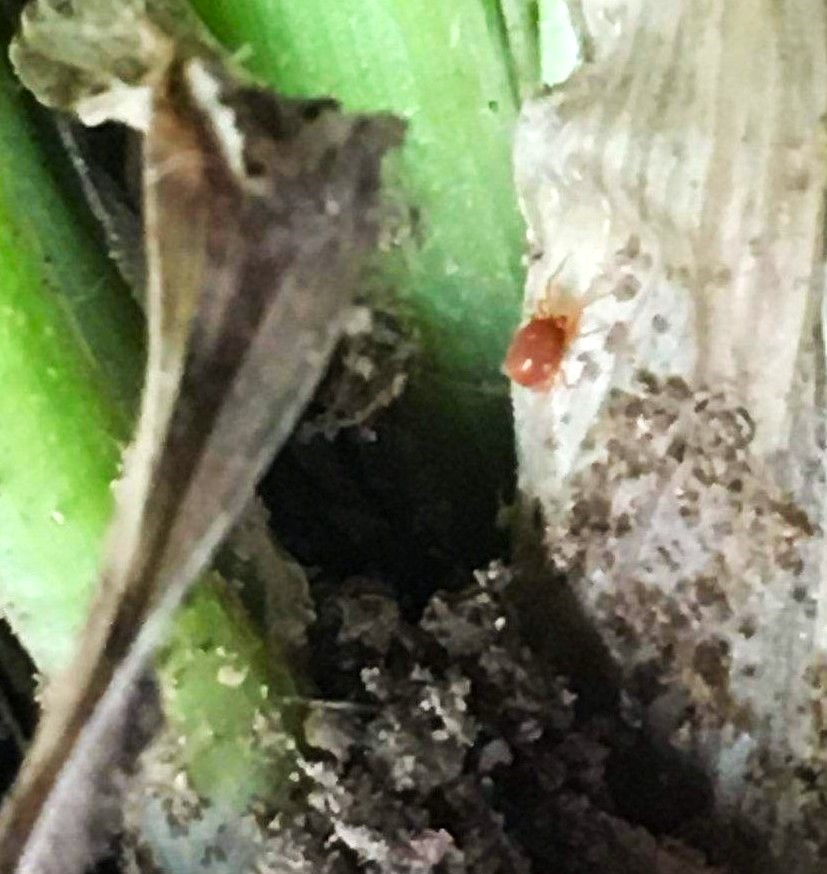Wheat Red Spider: (480, 244, 629, 419)
